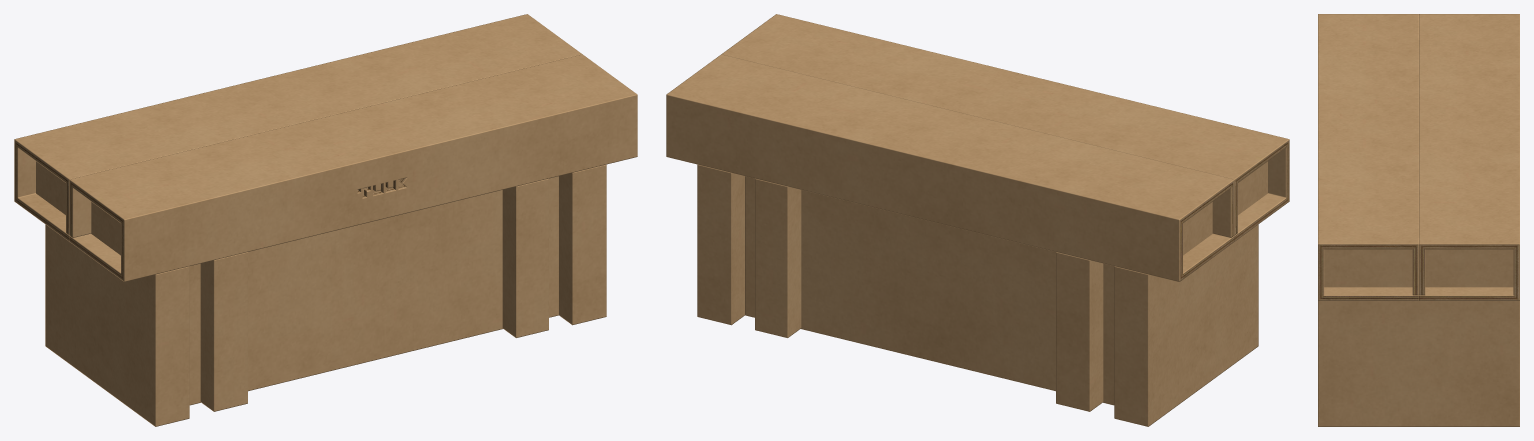
3 views of the same model, side by side, from view 1: azimuth 30°, elevation 25°; view 2: azimuth 150°, elevation 25°; view 3: azimuth 270°, elevation 25° (orthographic). The views are drawn at different scales.
Parts seen in each view (by area): view 1: Kraft 2410305; view 2: Kraft 2410305; view 3: Kraft 2410305.
Boxes of the visible parts, <box> form: Kraft 2410305: <box>14,14,637,426</box>; Kraft 2410305: <box>666,14,1289,426</box>; Kraft 2410305: <box>1318,14,1519,426</box>.
Size of the model in its own units: 0.7 by 0.28 by 0.26.
1 material, 1 textured.
